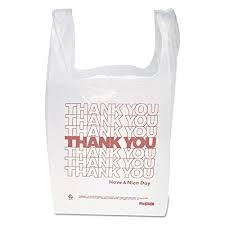Plastic bag: (30, 1, 183, 218)
